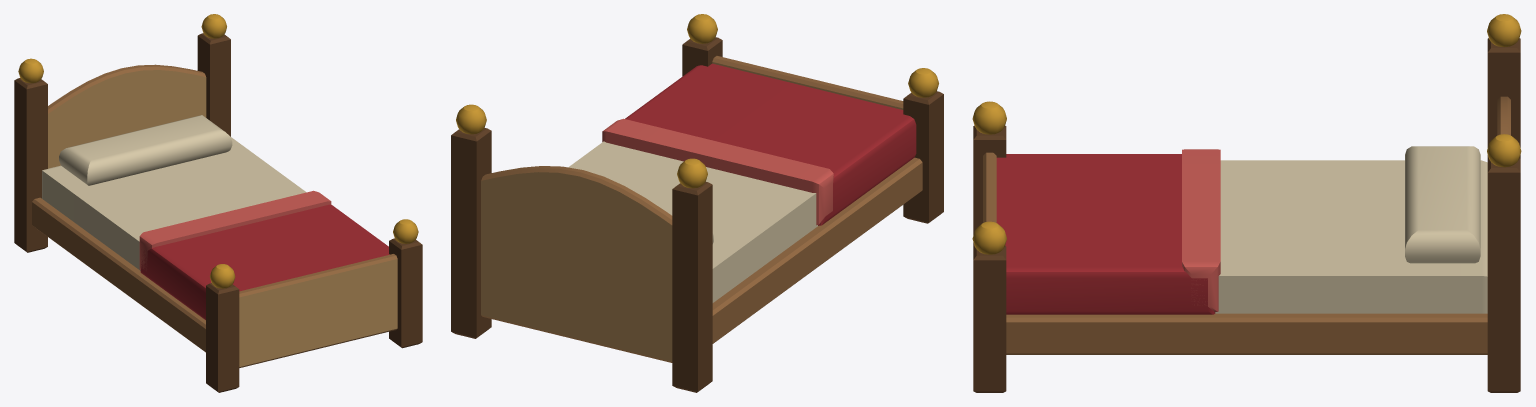
Rendered from Bed_02.glb.
3 views of the same model, side by side, from view 1: azimuth 30°, elevation 25°; view 2: azimuth 150°, elevation 25°; view 3: azimuth 270°, elevation 25° (orthographic). The views are drawn at different scales.
Parts seen in each view (by area): view 1: Bed_02; view 2: Bed_02; view 3: Bed_02.
Part boxes in pixels (x1,y1,x2,y2): Bed_02: [14, 14, 422, 392]; Bed_02: [451, 14, 943, 392]; Bed_02: [972, 14, 1521, 392].
Bounding box in the file's own units: 4.62 × 4.03 × 7.96.
